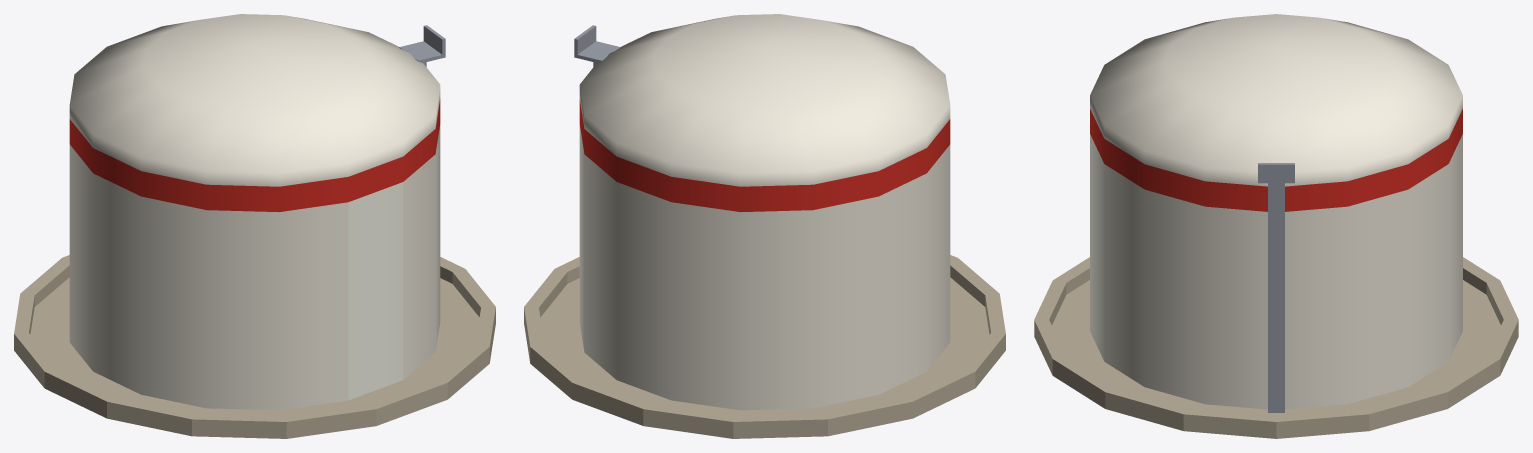
The model's file is Kit_FuelTank.glb.
3 renders of one model, left to right at view 1: azimuth 30°, elevation 25°; view 2: azimuth 150°, elevation 25°; view 3: azimuth 270°, elevation 25°, orthographic.
Visible parts, largest first — view 1: Kit_FuelTank; view 2: Kit_FuelTank; view 3: Kit_FuelTank.
Part boxes in pixels (left/top/right/bottom): Kit_FuelTank: left=14, top=14, right=495, bottom=438; Kit_FuelTank: left=524, top=14, right=1005, bottom=438; Kit_FuelTank: left=1034, top=14, right=1518, bottom=438.
Size of the model in its own units: 26 by 17.3 by 26.
